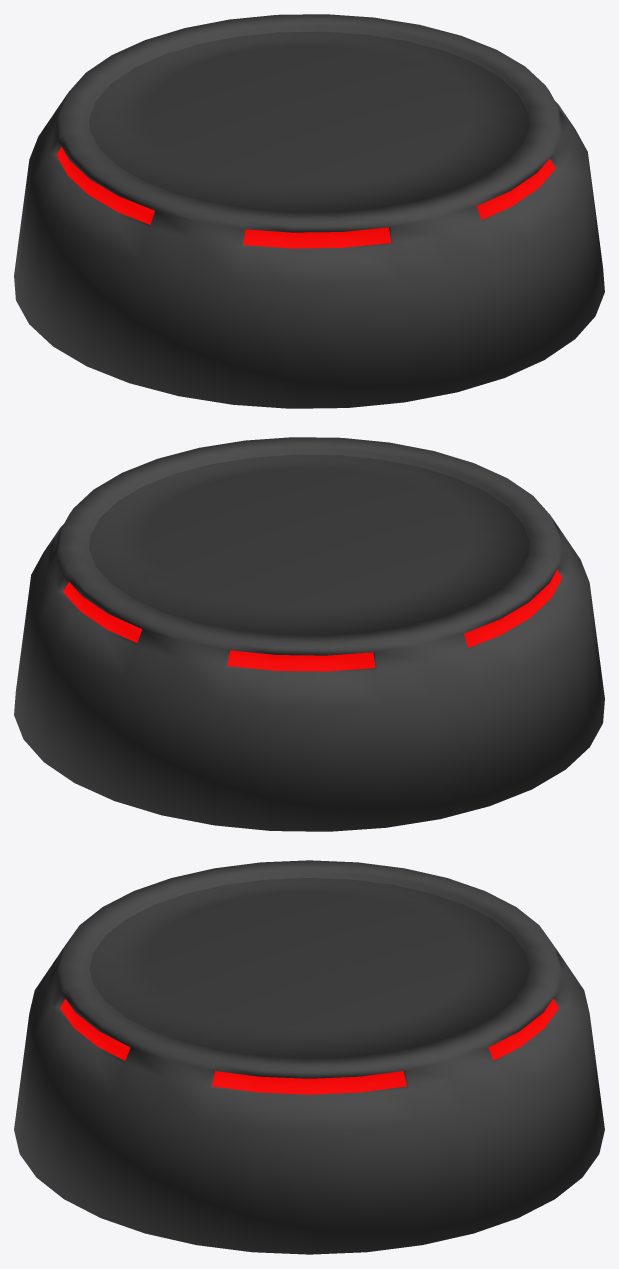
File: jump-pad.glb
The picture shows the model from 3 angles, top to bottom: view 1: azimuth 30°, elevation 25°; view 2: azimuth 150°, elevation 25°; view 3: azimuth 270°, elevation 25°; orthographic projection.
Parts seen in each view (by area): view 1: Cylinder; view 2: Cylinder; view 3: Cylinder.
Boxes of the visible parts, box(x1,y1,x2,y2) form: Cylinder: box(14, 14, 604, 408); Cylinder: box(14, 437, 604, 831); Cylinder: box(14, 860, 604, 1254).
Bounding box in the file's own units: 2.26 × 0.7106 × 2.26.
